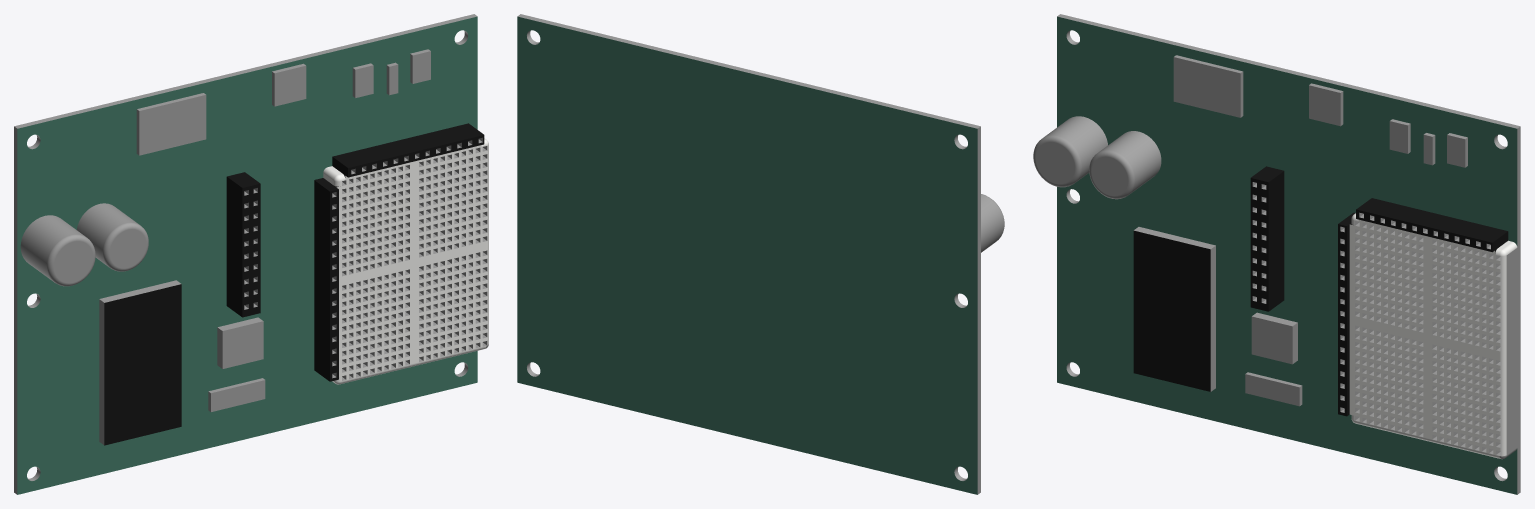
The picture shows the model from 3 angles, left to right: view 1: azimuth 30°, elevation 25°; view 2: azimuth 150°, elevation 25°; view 3: azimuth 330°, elevation 25°; orthographic projection.
Parts seen in each view (by area): view 1: Asset3DLoader.sceneRoot; view 2: Asset3DLoader.sceneRoot; view 3: Asset3DLoader.sceneRoot.
Part boxes in pixels (box(x1,y1,x2,y2)): Asset3DLoader.sceneRoot: box(14, 14, 488, 494); Asset3DLoader.sceneRoot: box(517, 14, 1004, 494); Asset3DLoader.sceneRoot: box(1033, 14, 1520, 494).
Bounding box in the file's own units: 0.1013 × 0.077 × 0.0123.
